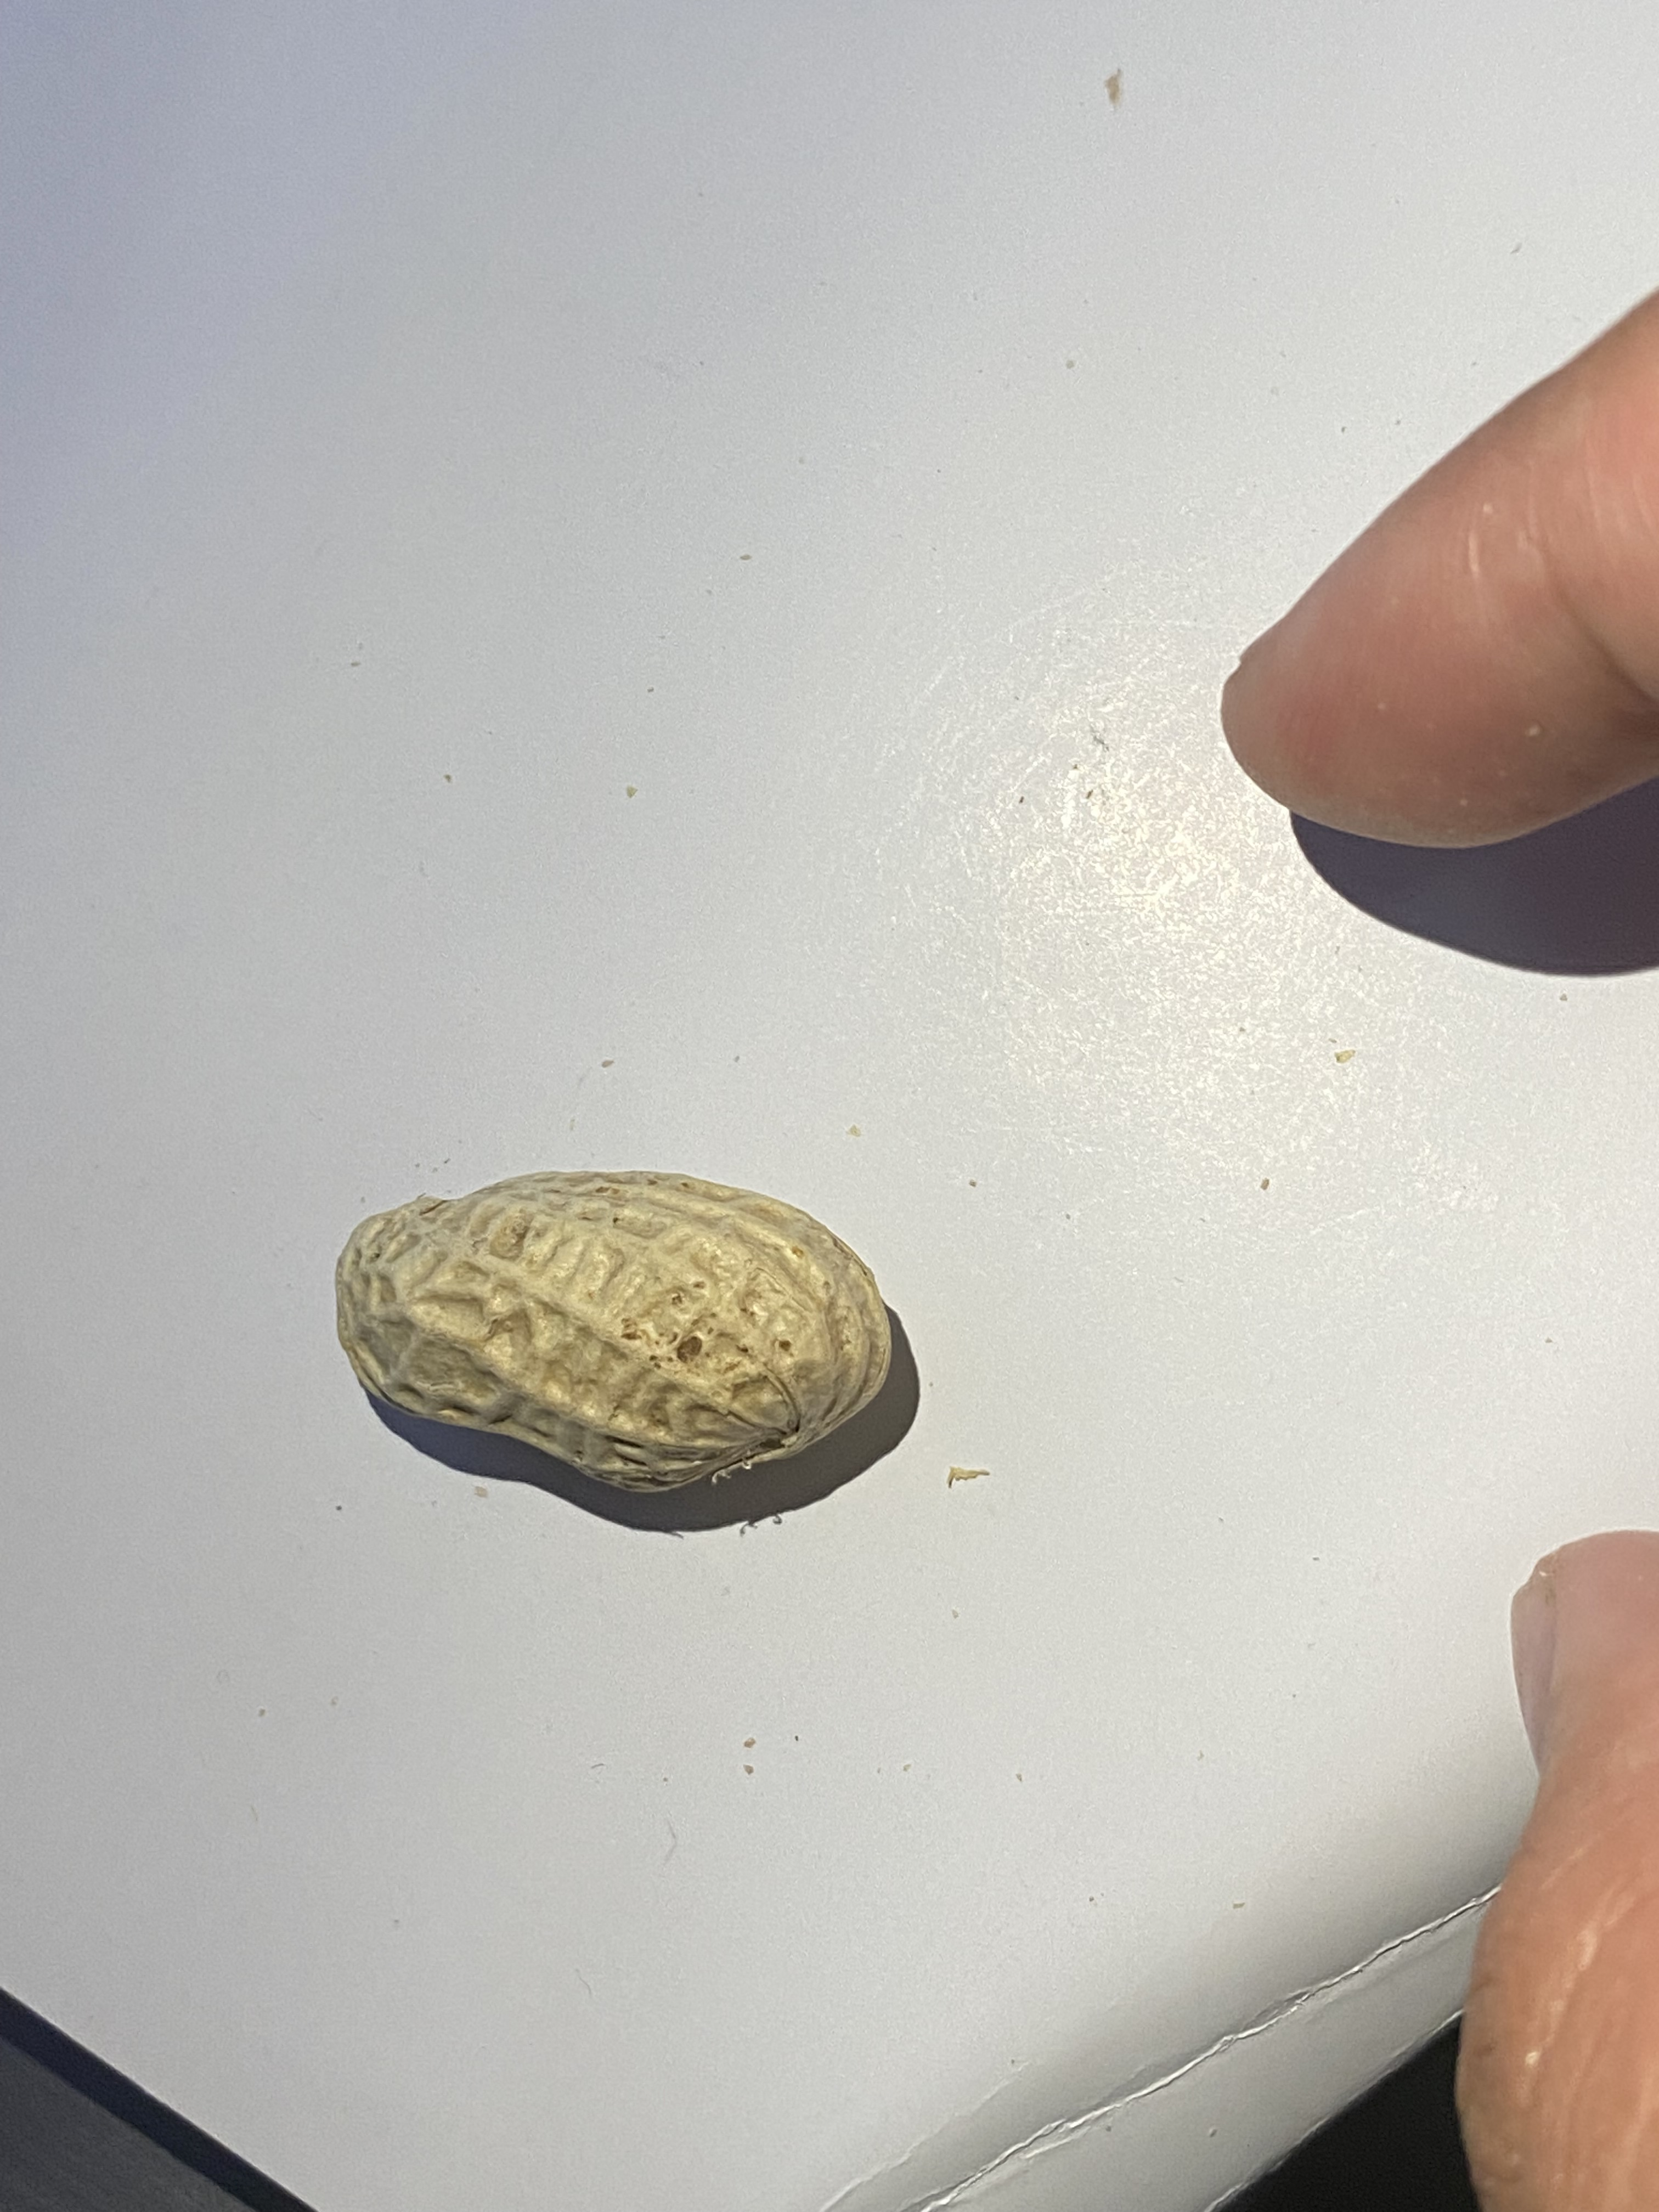kacang1: (314, 1165, 904, 1498)
